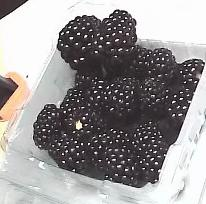berry: (92, 9, 138, 65), (59, 16, 101, 70), (101, 75, 142, 122), (83, 129, 131, 165), (47, 133, 89, 173), (100, 147, 139, 188), (103, 47, 152, 77), (32, 103, 63, 150), (66, 108, 108, 140), (139, 142, 169, 183), (144, 48, 177, 84), (166, 88, 195, 128), (141, 77, 171, 115), (133, 122, 163, 156), (59, 89, 86, 126), (177, 57, 205, 92), (75, 60, 103, 91), (82, 80, 109, 108)
